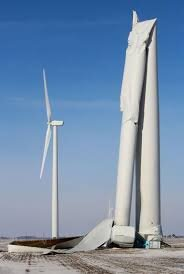faulty: (94, 6, 168, 252)
